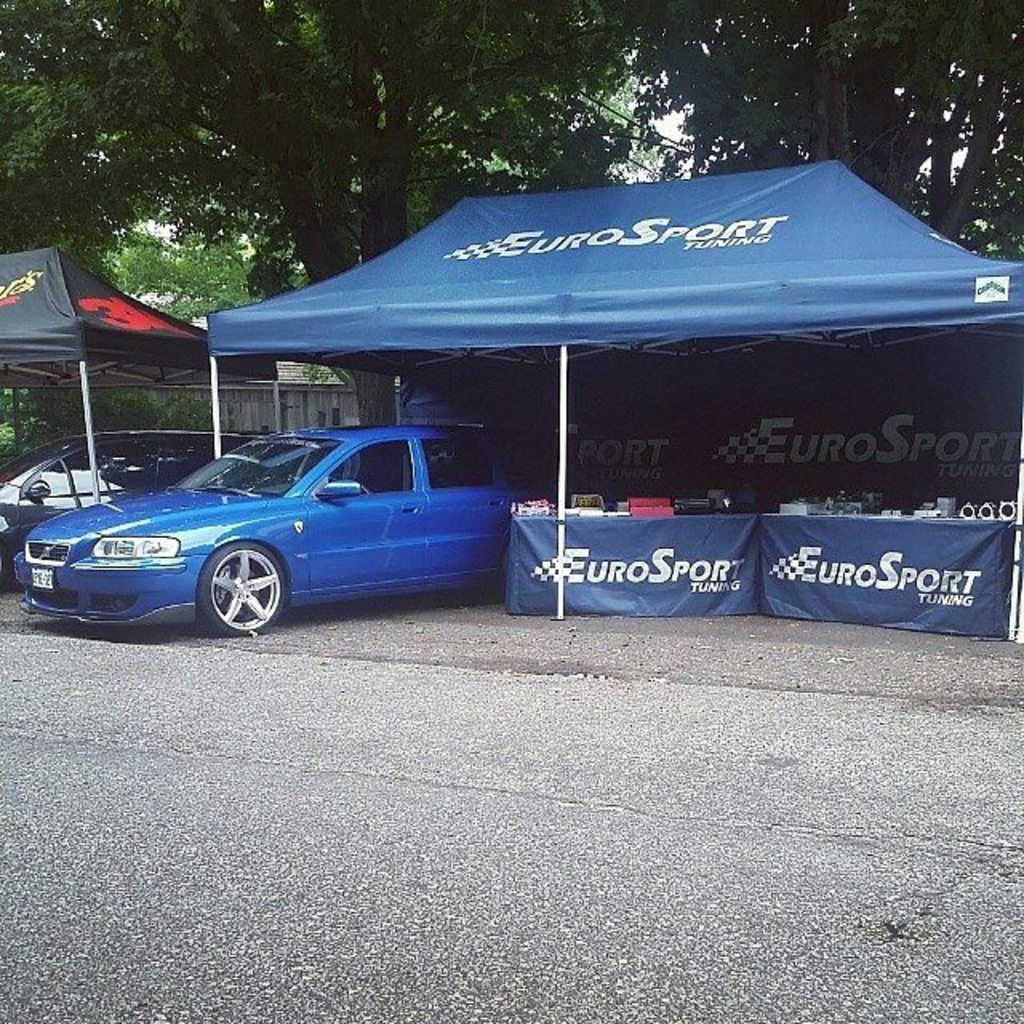Car: (1, 422, 244, 580)
